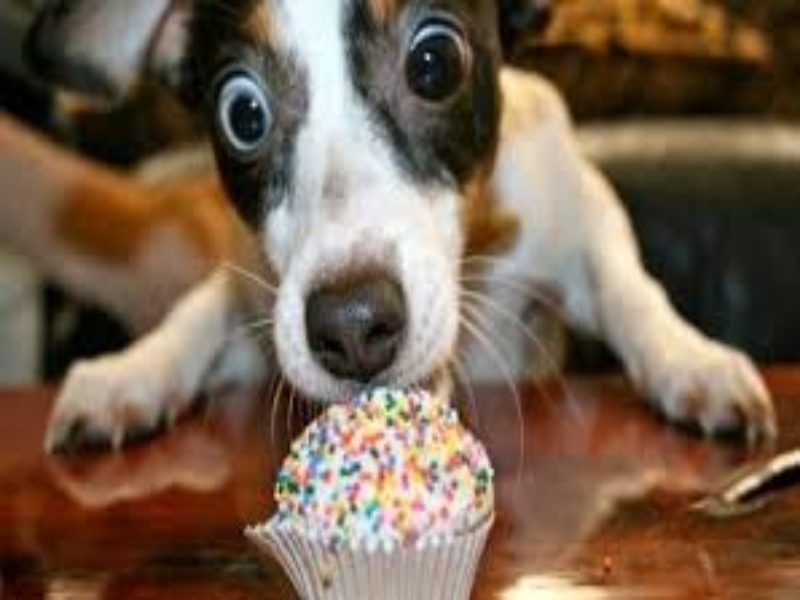dog: (40, 3, 795, 451)
